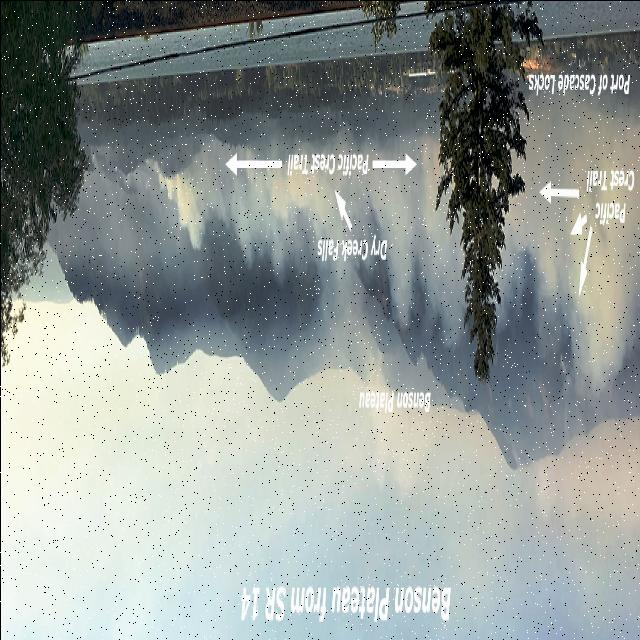asap: (135, 121, 640, 397)
